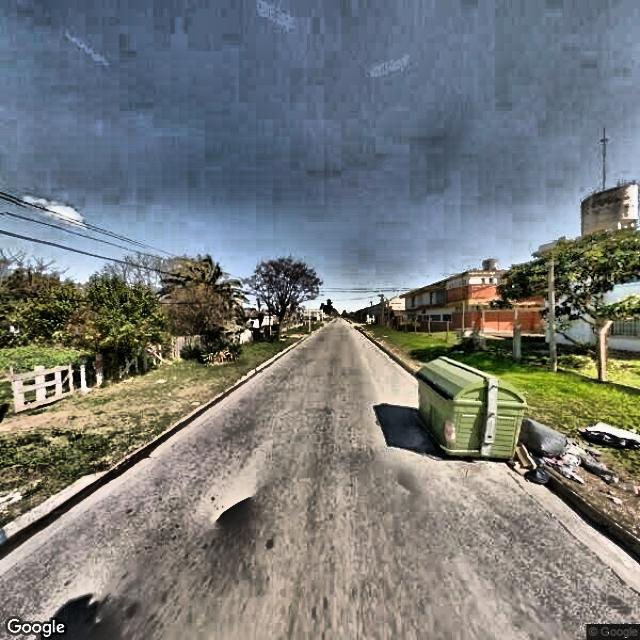garbage: (518, 408, 580, 486)
